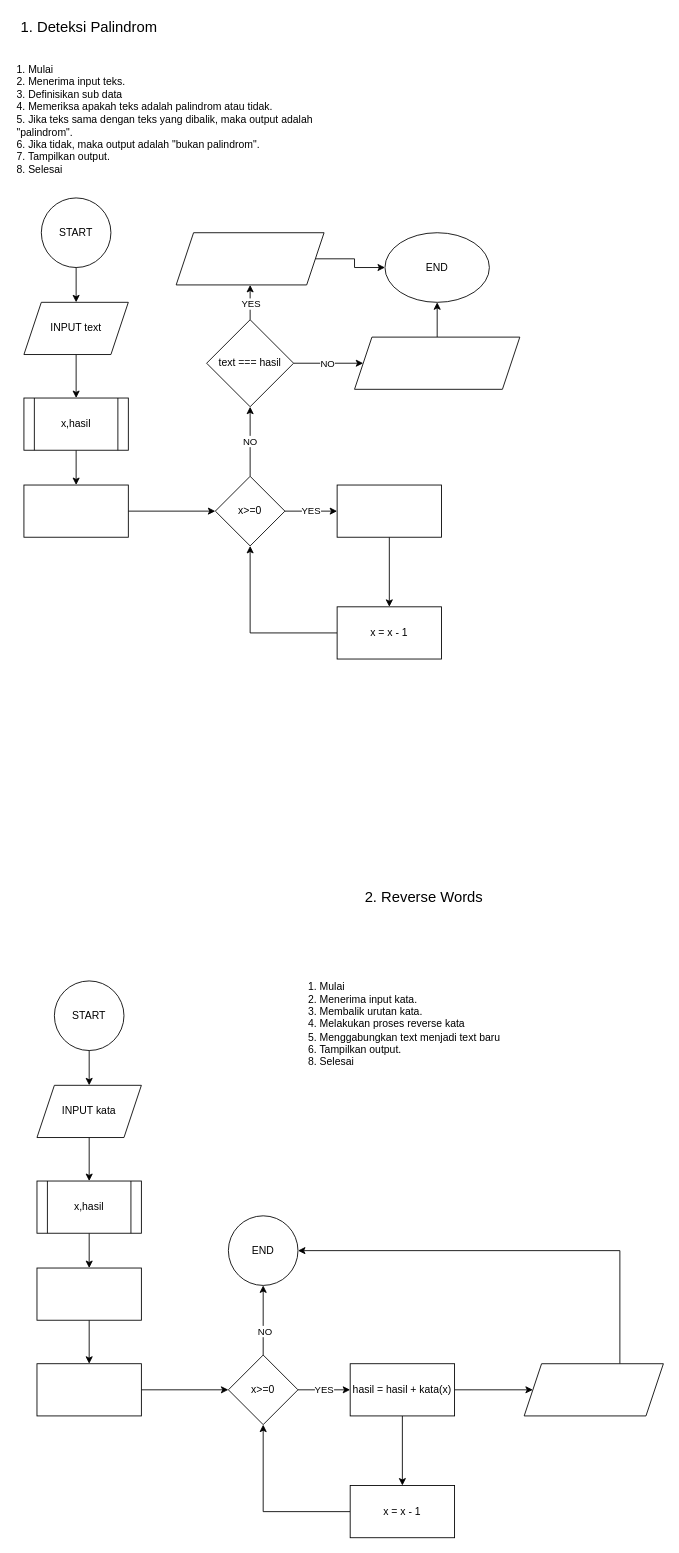
The diagram is 679 pixels wide and 1553 high, and some of its shapes have lost their labels. Here are the shapes that lost their labels. From the top down, the centre of each, then its label:
(x=249, y=258): OUTPUT "Palindrom
(x=437, y=362): OUTPUT "Bukan Palindrom"
(x=75, y=510): x = text.length -1
(x=389, y=510): hasil = hasil + text(x)
(x=88, y=1293): kata.split(" ")
(x=88, y=1389): x = kata.length -1
(x=593, y=1389): OUTPUT reverse(kata)
